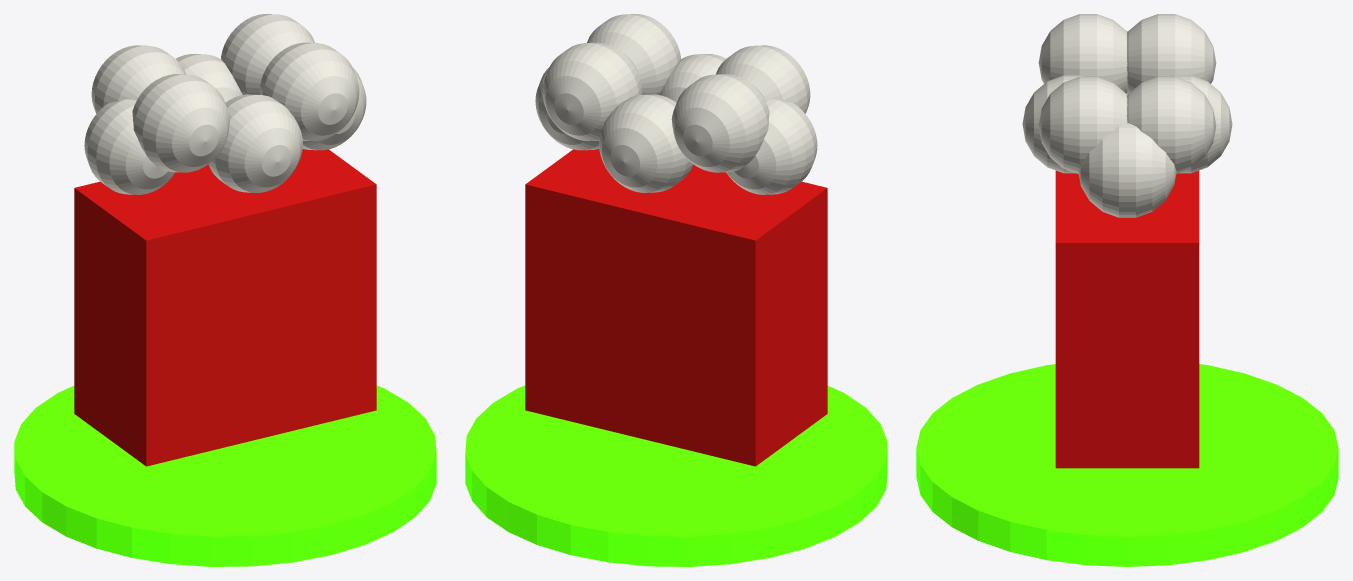
The model's file is food_popcorn.dae.
3 views of the same model, side by side, from view 1: azimuth 30°, elevation 25°; view 2: azimuth 150°, elevation 25°; view 3: azimuth 270°, elevation 25° (orthographic).
Parts seen in each view (by area): view 1: 01_14_Popular_Food_Popcorn_part_01, 01_14_Popular_Food_Popcorn_ROOT_base, 01_14_Popular_Food_Popcorn_part_05, 01_14_Popular_Food_Popcorn_part_03, 01_14_Popular_Food_Popcorn_part_04, 01_14_Popular_Food_Popcorn_part_06, 01_14_Popular_Food_Popcorn_part_09, 01_14_Popular_Food_Popcorn_part_07, 01_14_Popular_Food_Popcorn_part_08, 01_14_Popular_Food_Popcorn_part_02; view 2: 01_14_Popular_Food_Popcorn_part_01, 01_14_Popular_Food_Popcorn_ROOT_base, 01_14_Popular_Food_Popcorn_part_07, 01_14_Popular_Food_Popcorn_part_09, 01_14_Popular_Food_Popcorn_part_08, 01_14_Popular_Food_Popcorn_part_06, 01_14_Popular_Food_Popcorn_part_03, 01_14_Popular_Food_Popcorn_part_05, 01_14_Popular_Food_Popcorn_part_04, 01_14_Popular_Food_Popcorn_part_02; view 3: 01_14_Popular_Food_Popcorn_ROOT_base, 01_14_Popular_Food_Popcorn_part_01, 01_14_Popular_Food_Popcorn_part_02, 01_14_Popular_Food_Popcorn_part_03, 01_14_Popular_Food_Popcorn_part_09, 01_14_Popular_Food_Popcorn_part_05, 01_14_Popular_Food_Popcorn_part_07, 01_14_Popular_Food_Popcorn_part_04, 01_14_Popular_Food_Popcorn_part_08.
Boxes of the visible parts, left/top/right/bottom form: 01_14_Popular_Food_Popcorn_part_01: left=74, top=149, right=376, bottom=466; 01_14_Popular_Food_Popcorn_ROOT_base: left=14, top=385, right=436, bottom=566; 01_14_Popular_Food_Popcorn_part_05: left=132, top=74, right=230, bottom=172; 01_14_Popular_Food_Popcorn_part_03: left=259, top=42, right=359, bottom=140; 01_14_Popular_Food_Popcorn_part_04: left=208, top=94, right=302, bottom=192; 01_14_Popular_Food_Popcorn_part_06: left=84, top=99, right=175, bottom=194; 01_14_Popular_Food_Popcorn_part_09: left=221, top=14, right=314, bottom=94; 01_14_Popular_Food_Popcorn_part_07: left=91, top=45, right=185, bottom=113; 01_14_Popular_Food_Popcorn_part_08: left=176, top=54, right=242, bottom=102; 01_14_Popular_Food_Popcorn_part_02: left=302, top=67, right=366, bottom=150; 01_14_Popular_Food_Popcorn_part_01: left=525, top=149, right=827, bottom=466; 01_14_Popular_Food_Popcorn_ROOT_base: left=465, top=385, right=887, bottom=566; 01_14_Popular_Food_Popcorn_part_07: left=671, top=74, right=769, bottom=172; 01_14_Popular_Food_Popcorn_part_09: left=542, top=42, right=642, bottom=140; 01_14_Popular_Food_Popcorn_part_08: left=599, top=94, right=693, bottom=192; 01_14_Popular_Food_Popcorn_part_06: left=726, top=99, right=817, bottom=194; 01_14_Popular_Food_Popcorn_part_03: left=587, top=14, right=680, bottom=94; 01_14_Popular_Food_Popcorn_part_05: left=716, top=45, right=810, bottom=113; 01_14_Popular_Food_Popcorn_part_04: left=659, top=54, right=725, bottom=102; 01_14_Popular_Food_Popcorn_part_02: left=535, top=67, right=599, bottom=150; 01_14_Popular_Food_Popcorn_ROOT_base: left=916, top=364, right=1338, bottom=566; 01_14_Popular_Food_Popcorn_part_01: left=1055, top=170, right=1199, bottom=468; 01_14_Popular_Food_Popcorn_part_02: left=1078, top=123, right=1176, bottom=217; 01_14_Popular_Food_Popcorn_part_03: left=1038, top=76, right=1127, bottom=173; 01_14_Popular_Food_Popcorn_part_09: left=1127, top=76, right=1216, bottom=173; 01_14_Popular_Food_Popcorn_part_05: left=1038, top=14, right=1127, bottom=93; 01_14_Popular_Food_Popcorn_part_07: left=1127, top=14, right=1216, bottom=93; 01_14_Popular_Food_Popcorn_part_04: left=1022, top=75, right=1083, bottom=173; 01_14_Popular_Food_Popcorn_part_08: left=1171, top=75, right=1232, bottom=173.
Bounding box in the file's own units: 0.76 × 0.85 × 0.76.
